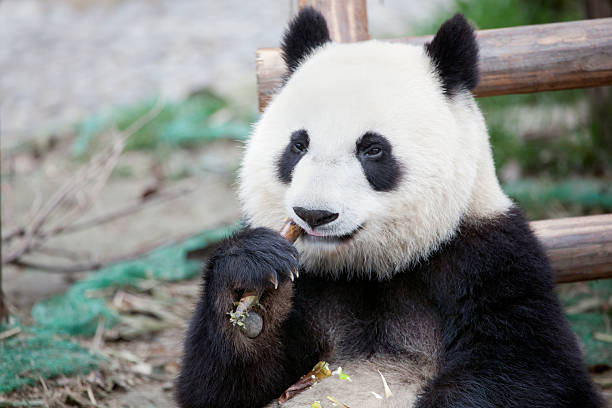panda: (213, 3, 521, 306)
